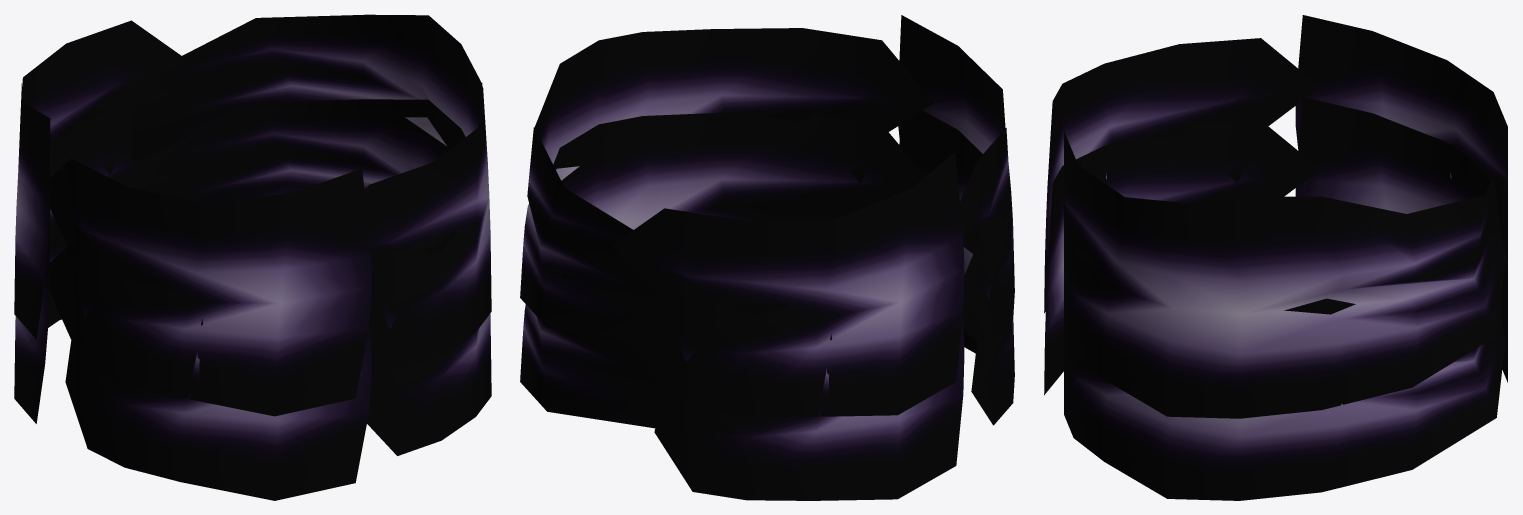
Rendered from dizzyStars.glb.
The picture shows the model from 3 angles, left to right: view 1: azimuth 30°, elevation 25°; view 2: azimuth 150°, elevation 25°; view 3: azimuth 270°, elevation 25°; orthographic projection. The views are drawn at different scales.
Visible parts, largest first — view 1: Dizzytrail (1), Dizzytrail; view 2: Dizzytrail (1), Dizzytrail; view 3: Dizzytrail (1), Dizzytrail.
Part boxes in pixels (left/top/right/bottom): Dizzytrail (1): left=14, top=14, right=491, bottom=416; Dizzytrail: left=14, top=99, right=491, bottom=500; Dizzytrail (1): left=520, top=15, right=1014, bottom=416; Dizzytrail: left=520, top=111, right=1014, bottom=500; Dizzytrail (1): left=1044, top=15, right=1507, bottom=418; Dizzytrail: left=1044, top=97, right=1507, bottom=500.
Bounding box in the file's own units: 2.91 × 2.19 × 2.98.
Materials: 1 (1 with a texture image).
